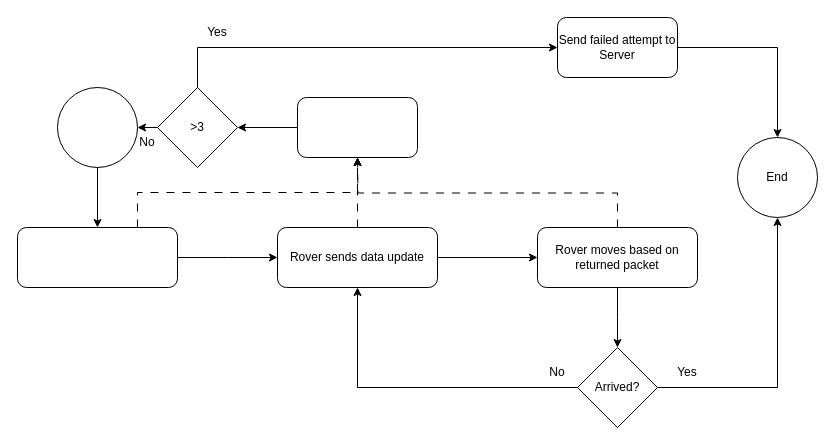
This 835x445 diagram has some shape labels left out. Each missing label, with the centre of its shape:
"Note request attempt count" goes at [357,127].
"Rover sends Credentials to Server" goes at [97,257].
"Start" goes at [97,127].
